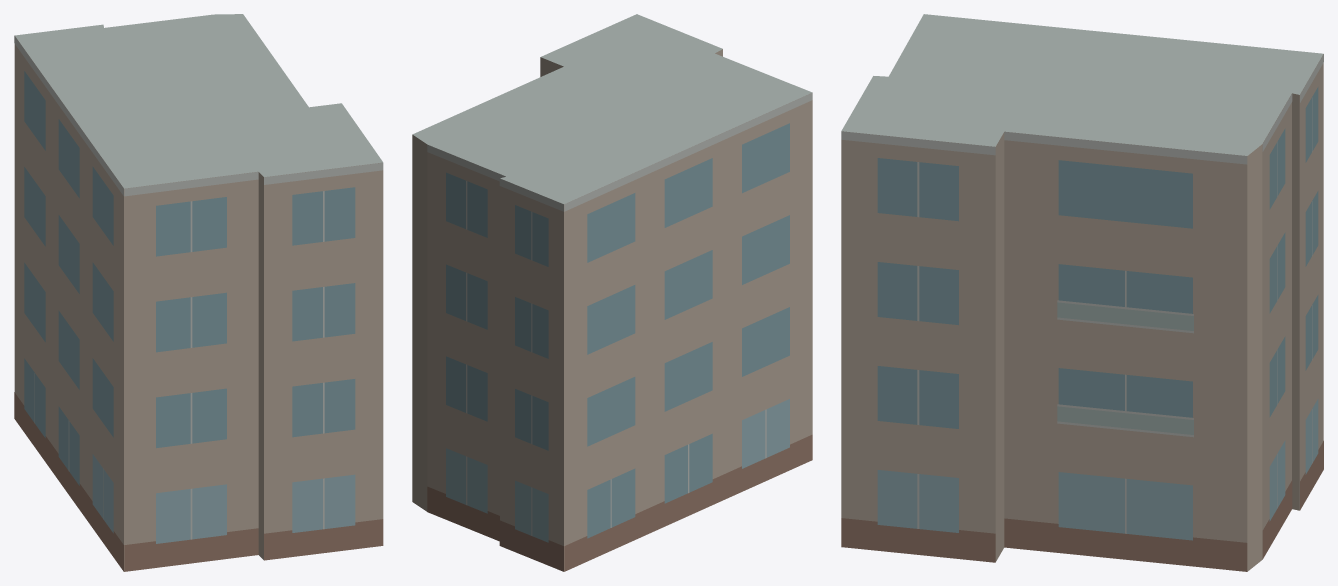
The model's file is survey-upis-32770822.glb.
3 renders of one model, left to right at view 1: azimuth 30°, elevation 25°; view 2: azimuth 150°, elevation 25°; view 3: azimuth 270°, elevation 25°, orthographic. The views are drawn at different scales.
Parts seen in each view (by area): view 1: survey-upis-32770822.tmp; view 2: survey-upis-32770822.tmp; view 3: survey-upis-32770822.tmp.
Part boxes in pixels (x1,y1,x2,y2): survey-upis-32770822.tmp: (14, 14, 383, 571); survey-upis-32770822.tmp: (412, 14, 812, 571); survey-upis-32770822.tmp: (841, 14, 1323, 571).
Bounding box in the file's own units: 8.73 × 11.9 × 12.53.
